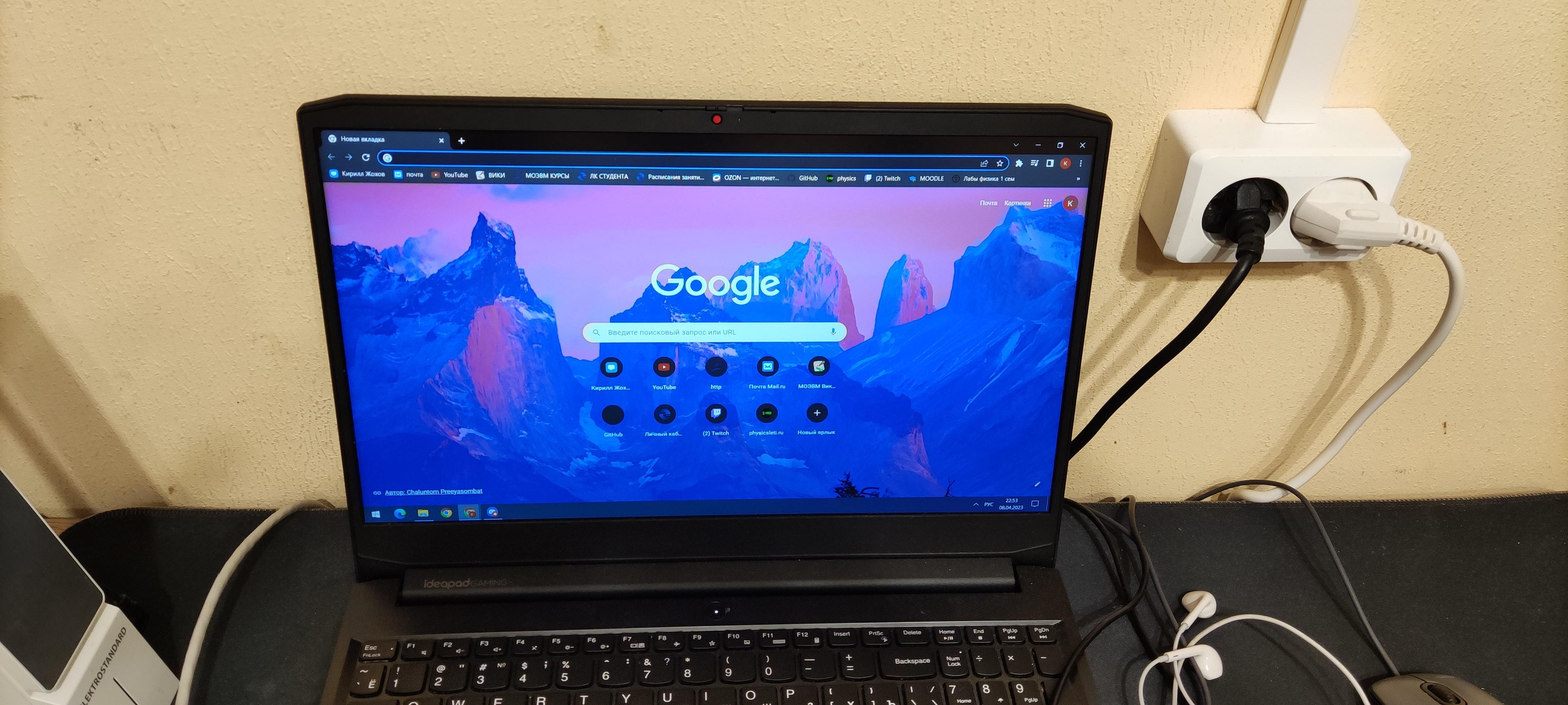monitor: (288, 86, 1121, 593)
